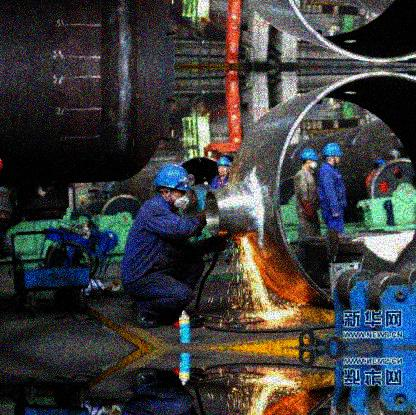helmet: (151, 162, 194, 211), (318, 143, 345, 167), (300, 149, 319, 170), (216, 156, 232, 176), (373, 160, 384, 169)
